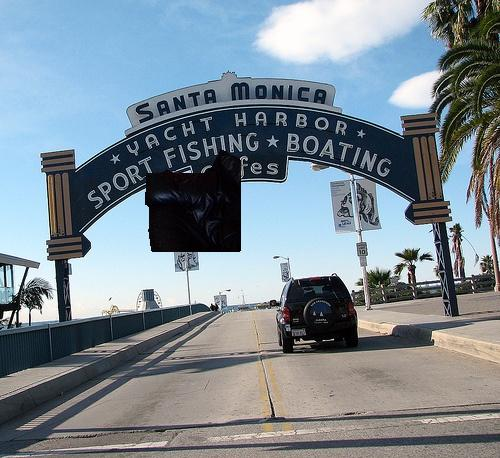tampered: (146, 150, 241, 252)
